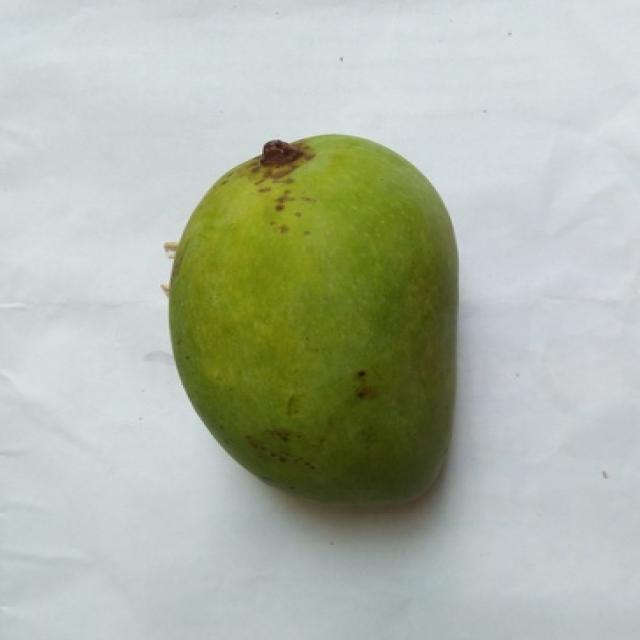Mango: (169, 135, 457, 506)
